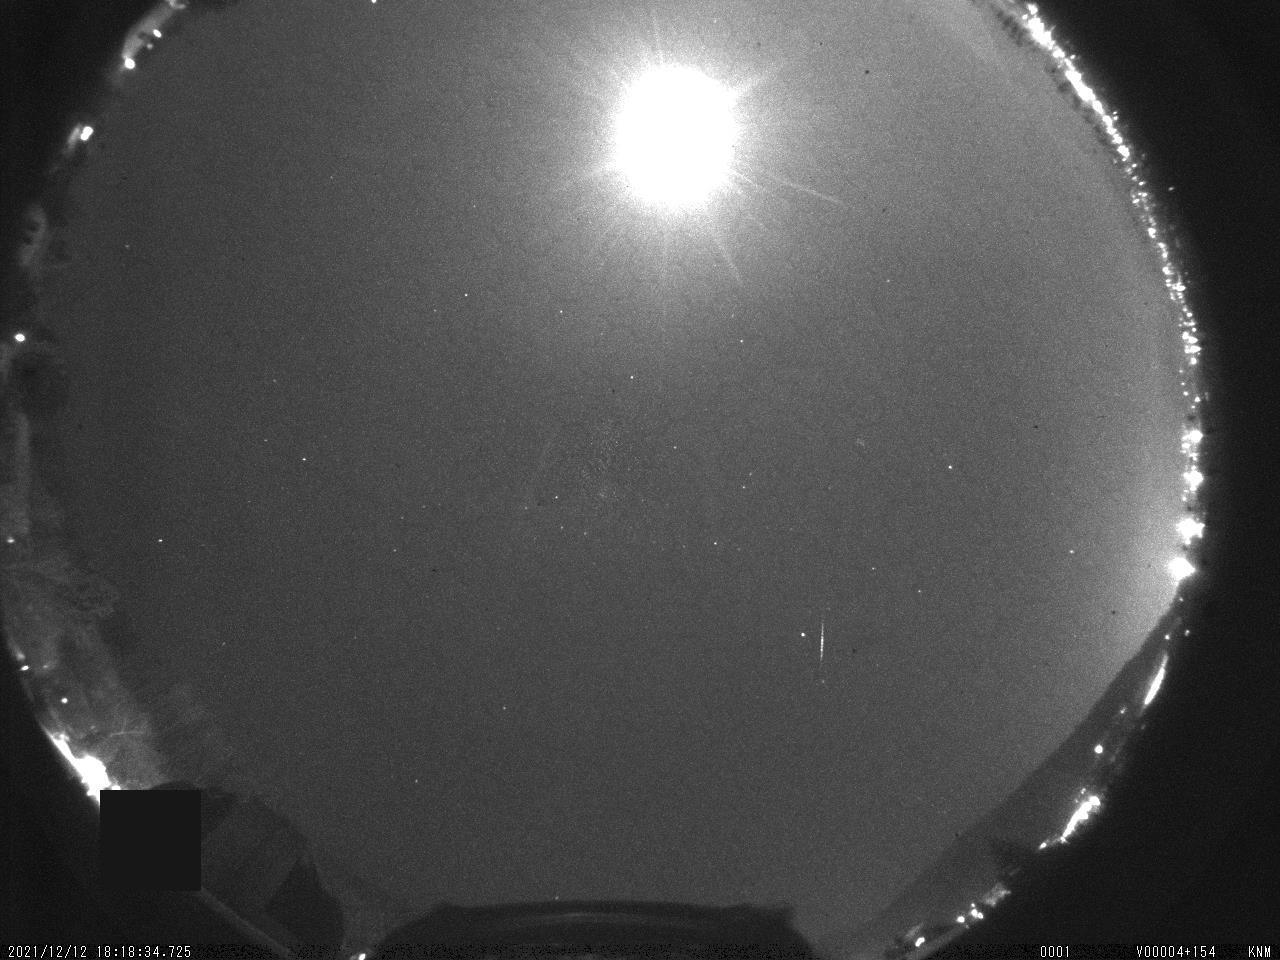Meteor: (812, 608, 831, 673)
